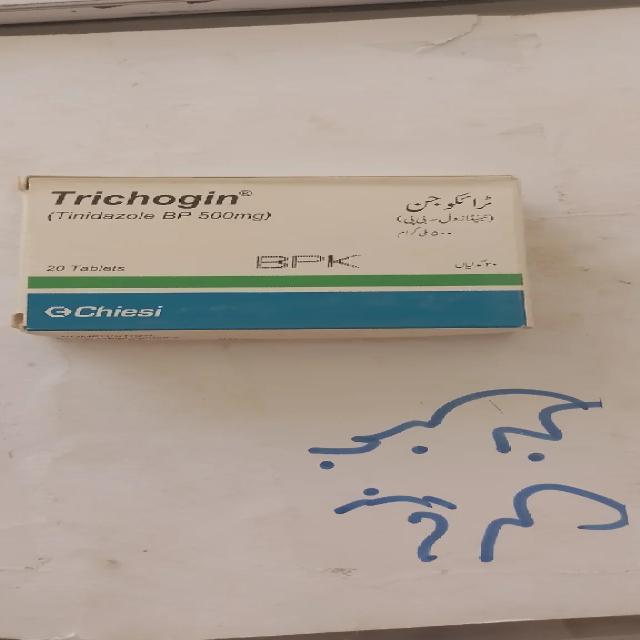drug-name: (51, 189, 240, 210)
